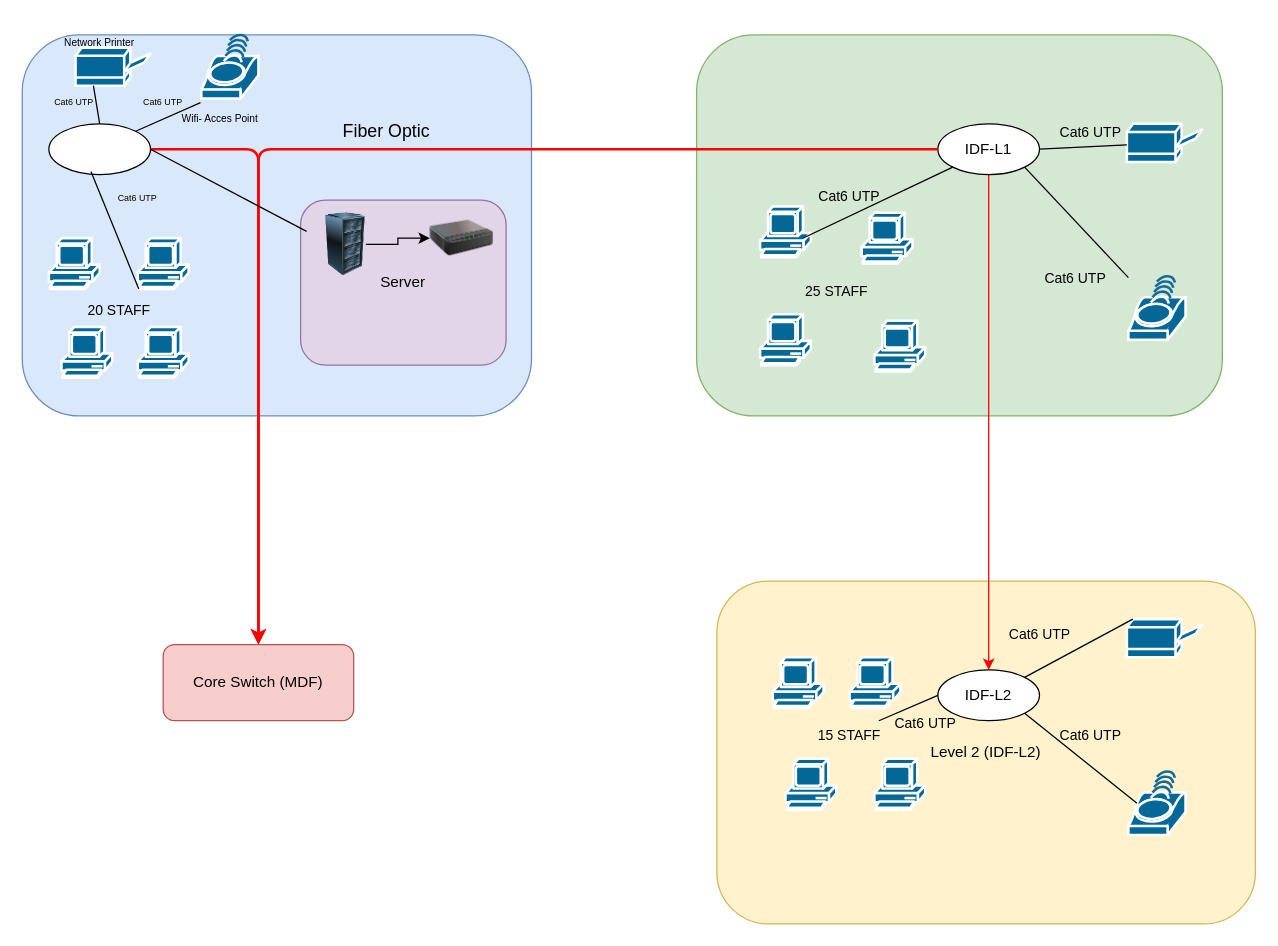
This 1278x946 diagram has some shape labels left out. Each missing label, with the box of its shape:
IDF-GF: (48, 123, 150, 175)
Level 1 (IDF-L1): (695, 34, 1222, 416)
